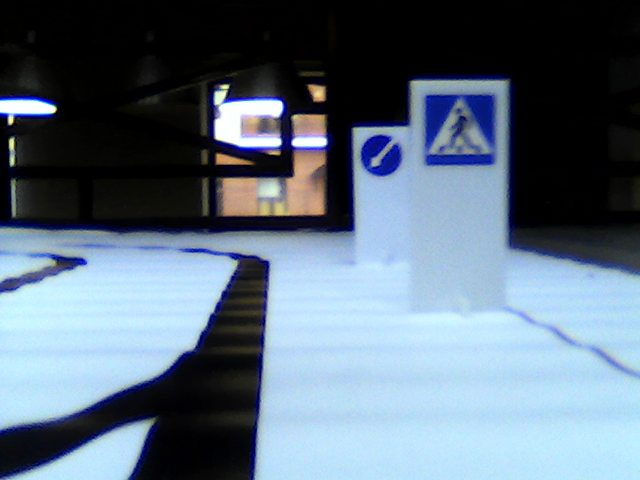pesh: (424, 97, 495, 165)
prep: (359, 133, 403, 178)
